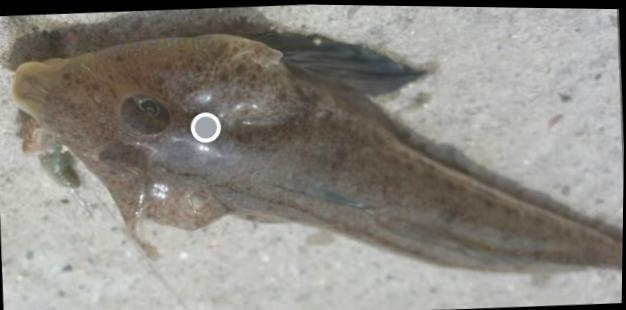fish: (9, 21, 623, 272)
